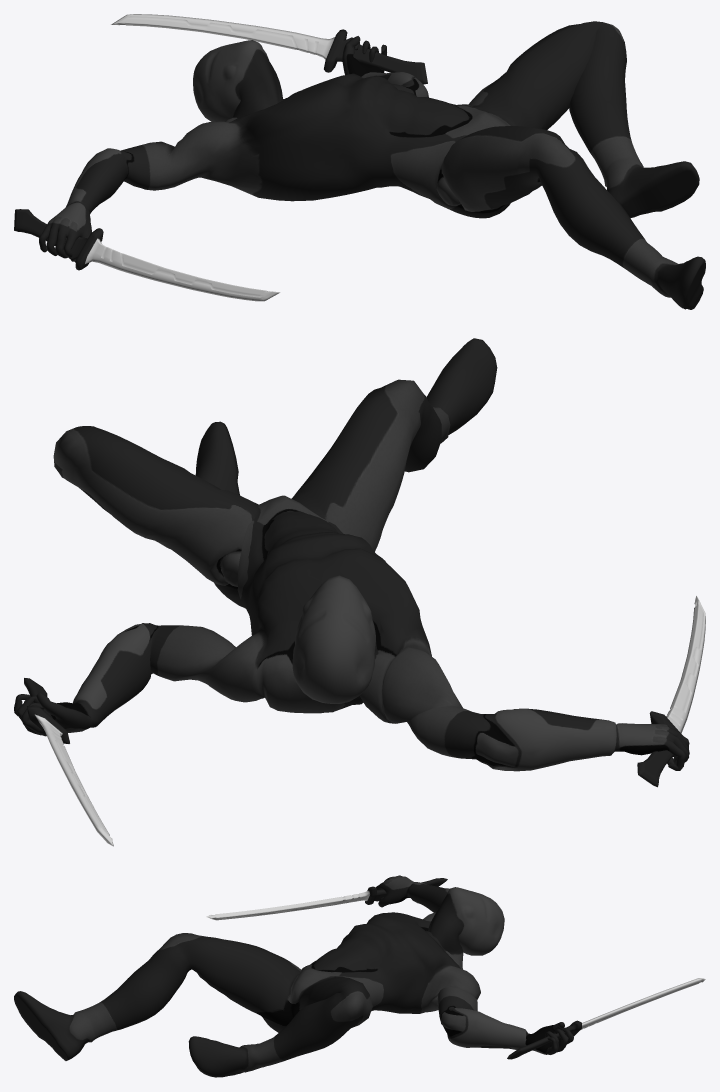
3 views of the same model, one above another, from view 1: azimuth 30°, elevation 25°; view 2: azimuth 150°, elevation 25°; view 3: azimuth 270°, elevation 25° (orthographic). The views are drawn at different scales.
Parts seen in each view (by area): view 1: Cyborg_Ninja_Killer, Sword_l, Sword_l001; view 2: Cyborg_Ninja_Killer, Sword_l001, Sword_l; view 3: Cyborg_Ninja_Killer, Sword_l001, Sword_l.
Boxes of the visible parts, bbox=[...] form: Cyborg_Ninja_Killer: bbox=[39, 21, 705, 309]; Sword_l: bbox=[111, 14, 427, 84]; Sword_l001: bbox=[14, 209, 280, 301]; Cyborg_Ninja_Killer: bbox=[14, 338, 689, 771]; Sword_l001: bbox=[637, 596, 705, 787]; Sword_l: bbox=[24, 678, 113, 846]; Cyborg_Ninja_Killer: bbox=[14, 875, 573, 1077]; Sword_l001: bbox=[206, 878, 447, 920]; Sword_l: bbox=[507, 978, 705, 1059].
Size of the model in its own units: 168 by 40.02 by 236.
Materials: 2 (2 with a texture image).
